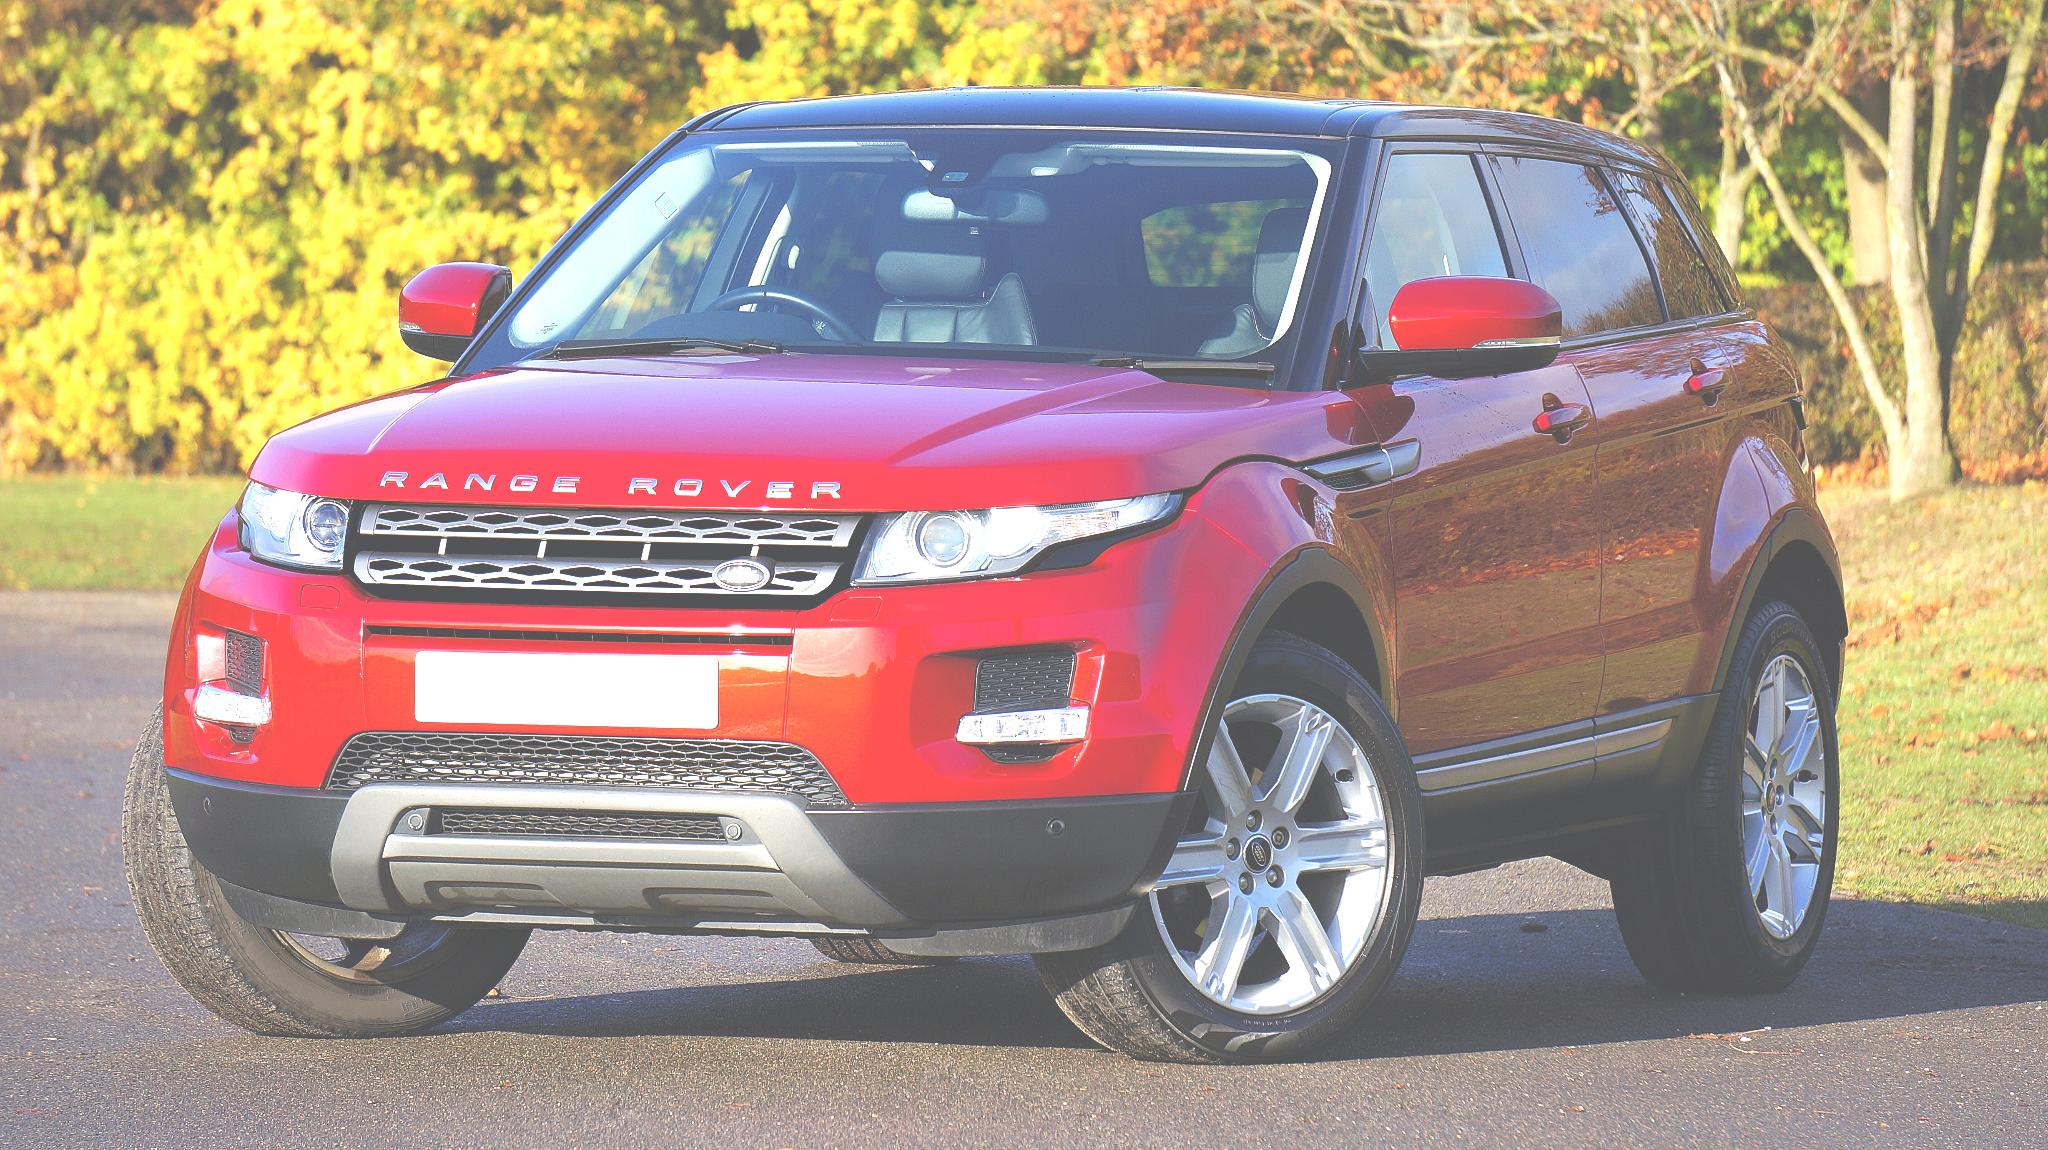range rover: (369, 461, 868, 510)
